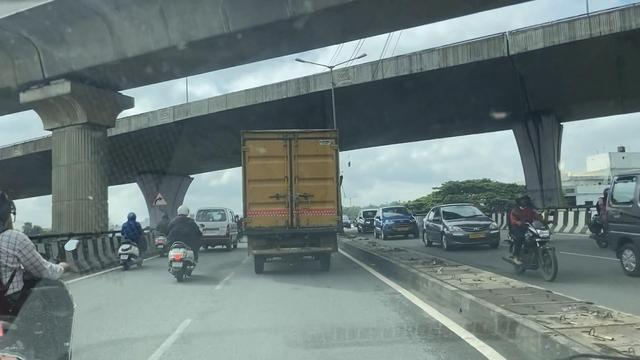HMV: (236, 128, 348, 271)
LMV: (169, 202, 200, 284), (116, 211, 146, 268)
